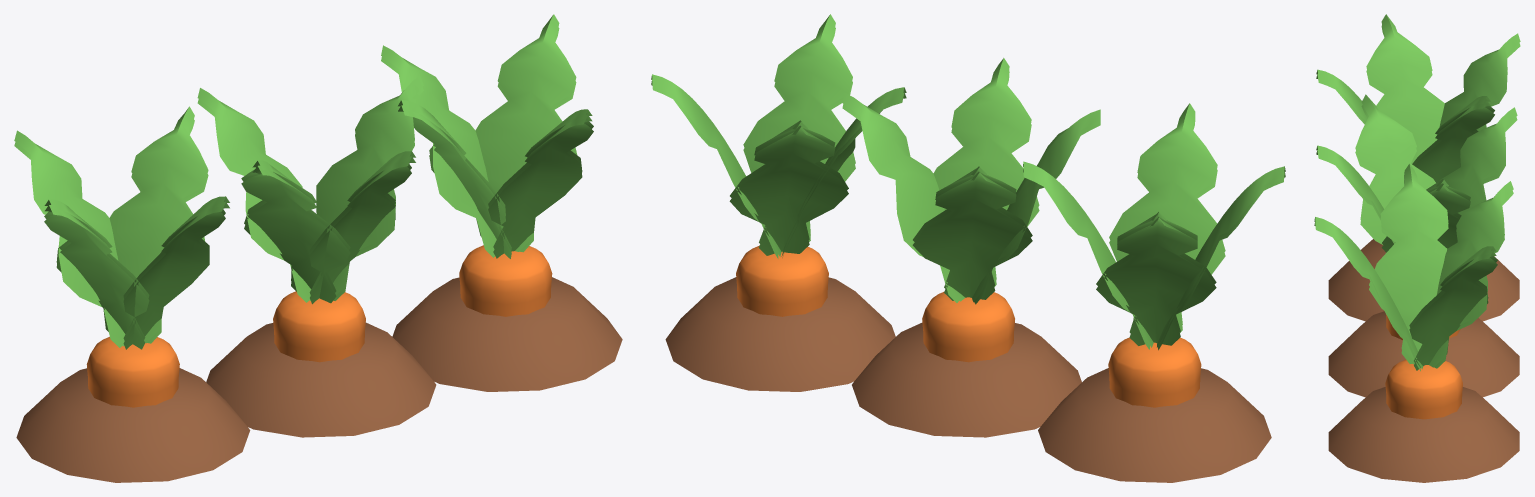
File: prop_carrot_plant.glb
The picture shows the model from 3 angles, left to right: view 1: azimuth 30°, elevation 25°; view 2: azimuth 150°, elevation 25°; view 3: azimuth 270°, elevation 25°; orthographic projection. The views are drawn at different scales.
Visible parts, largest first — view 1: prop_carrot_plant; view 2: prop_carrot_plant; view 3: prop_carrot_plant.
Part boxes in pixels (x1,y1,x2,y2): prop_carrot_plant: (14,14,622,482); prop_carrot_plant: (651,14,1285,482); prop_carrot_plant: (1314,14,1520,482).
Size of the model in its own units: 0.6888 by 0.313 by 0.2523.
